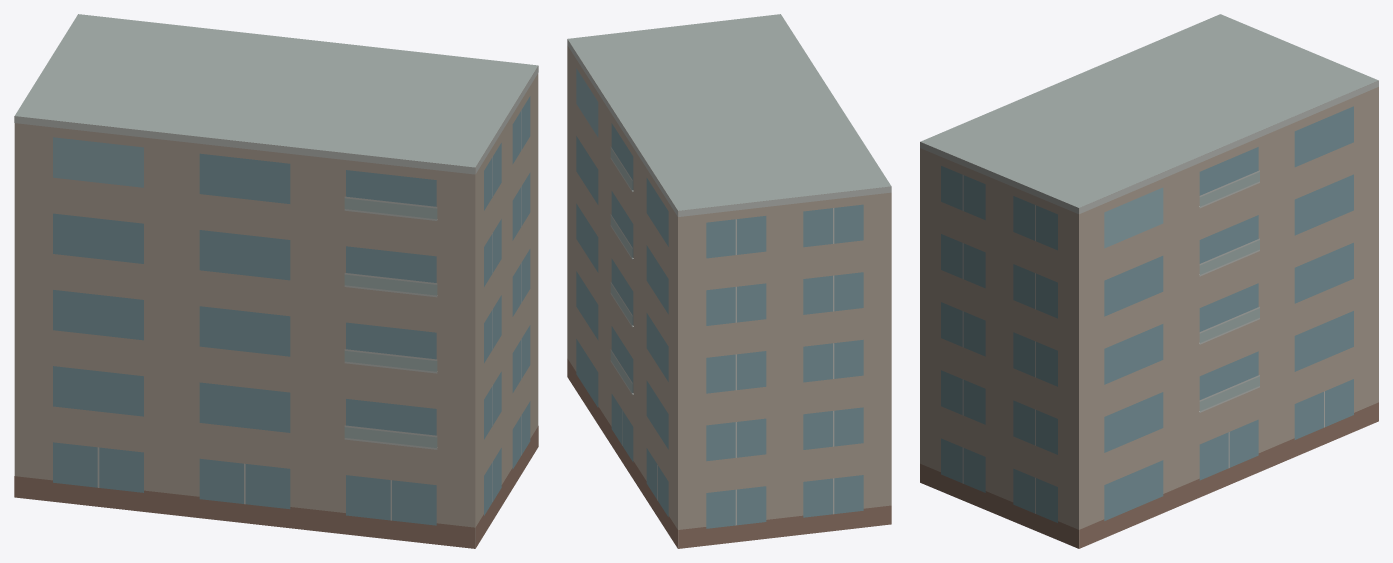
File: survey-upis-32886734.glb
3 views of the same model, side by side, from view 1: azimuth 30°, elevation 25°; view 2: azimuth 150°, elevation 25°; view 3: azimuth 270°, elevation 25° (orthographic). The views are drawn at different scales.
Visible parts, largest first — view 1: survey-upis-32886734.tmp; view 2: survey-upis-32886734.tmp; view 3: survey-upis-32886734.tmp.
Boxes of the visible parts, x1,y1,x2,y2 form: survey-upis-32886734.tmp: (14, 14, 538, 548); survey-upis-32886734.tmp: (567, 14, 891, 548); survey-upis-32886734.tmp: (920, 14, 1378, 548).
Bounding box in the file's own units: 16.12 × 13.2 × 16.11.
